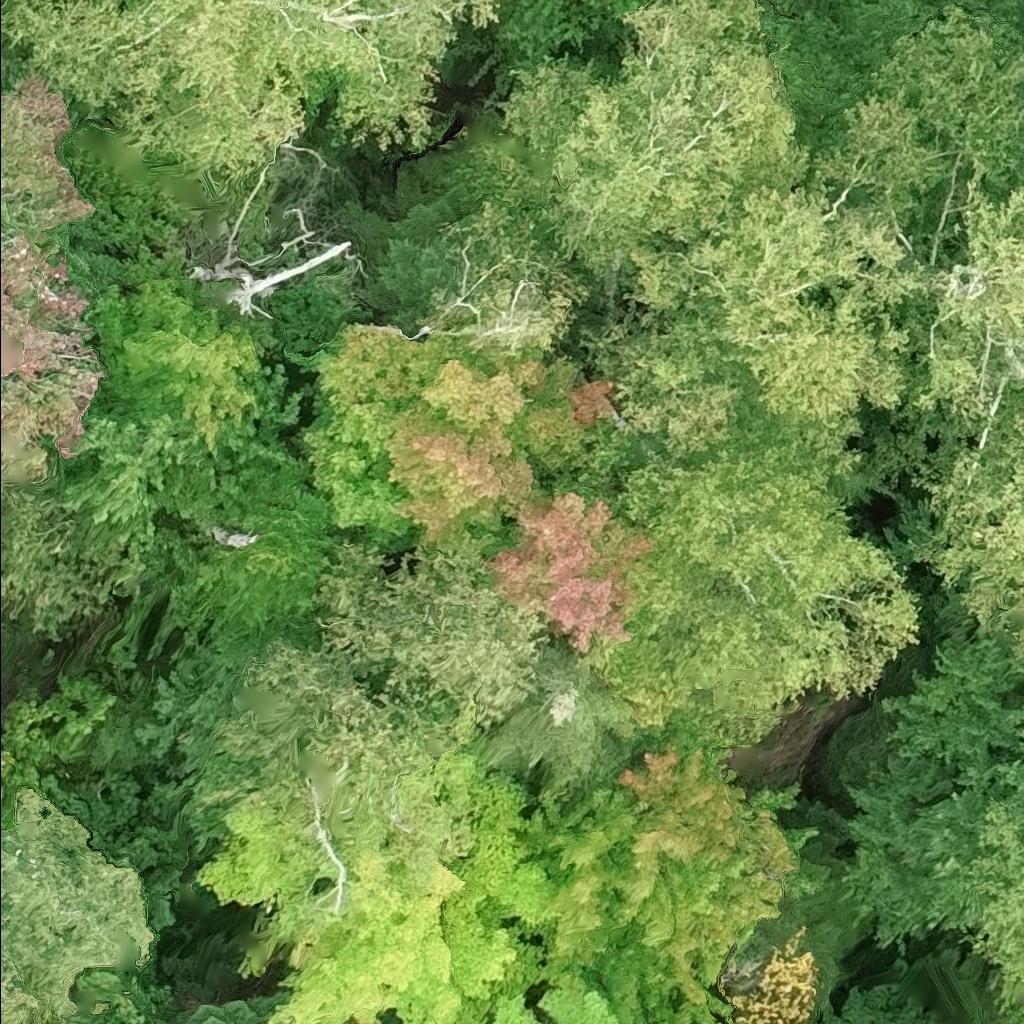crown: (194, 730, 561, 1023), (575, 176, 947, 462), (502, 709, 836, 1023), (611, 422, 921, 748), (245, 526, 552, 835), (0, 0, 507, 178), (492, 0, 815, 273), (294, 324, 623, 552), (805, 3, 1023, 237), (63, 360, 301, 548), (82, 242, 279, 454), (169, 452, 345, 676), (886, 404, 1023, 652), (911, 150, 1023, 451), (488, 476, 661, 655), (487, 635, 638, 785), (336, 167, 469, 330), (532, 953, 621, 1023), (154, 989, 296, 1023), (492, 991, 543, 1023)
